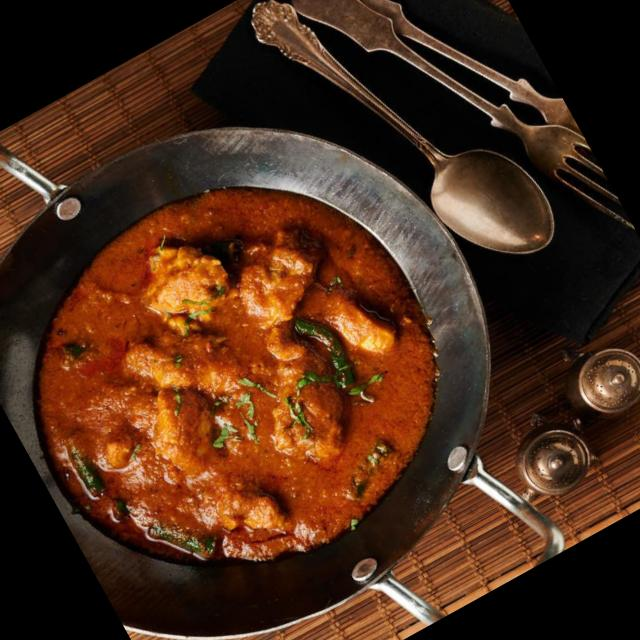chicken: (0, 120, 489, 611)
